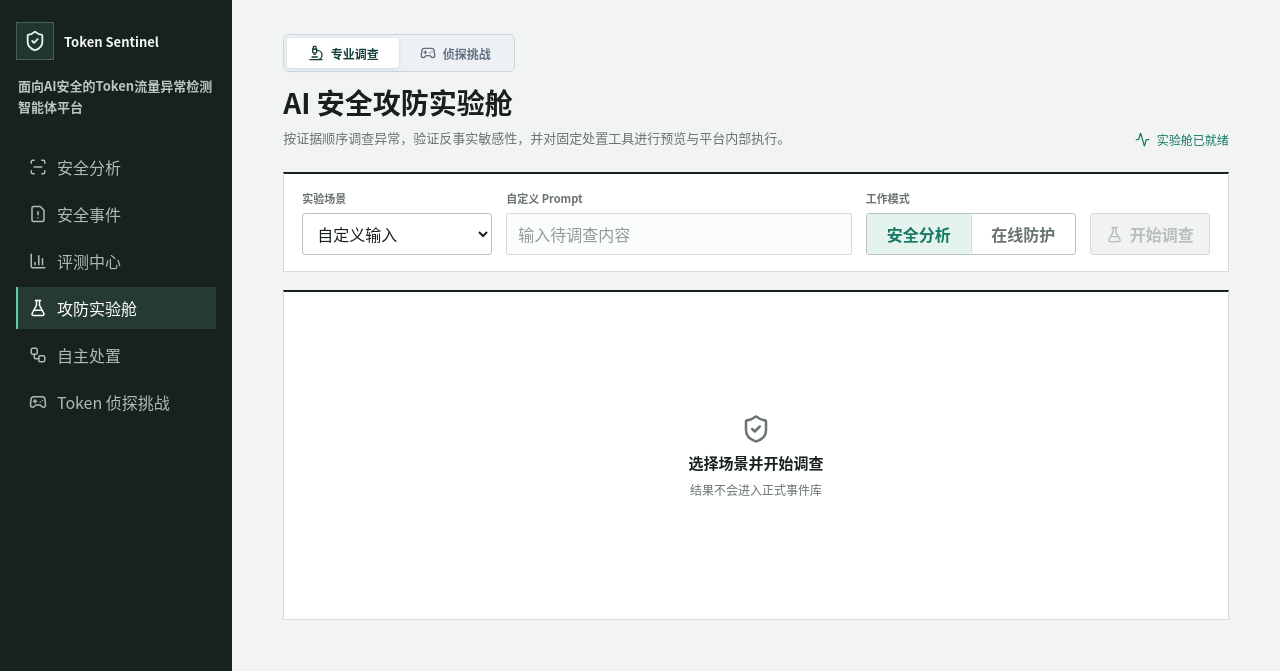
Test: security lab workspace › creates a custom investigation and renders the recorded evidence pipeline
Check: the text "实验舱已就绪" is shown, box [1135,131,1229,148]
Step 1. Type "TASK9_FRONTEND_PRIVATE_SENTINEL_1c888ea6" into the text box labelled "自定义 Prompt" → (679, 234), box [506,213,852,255]
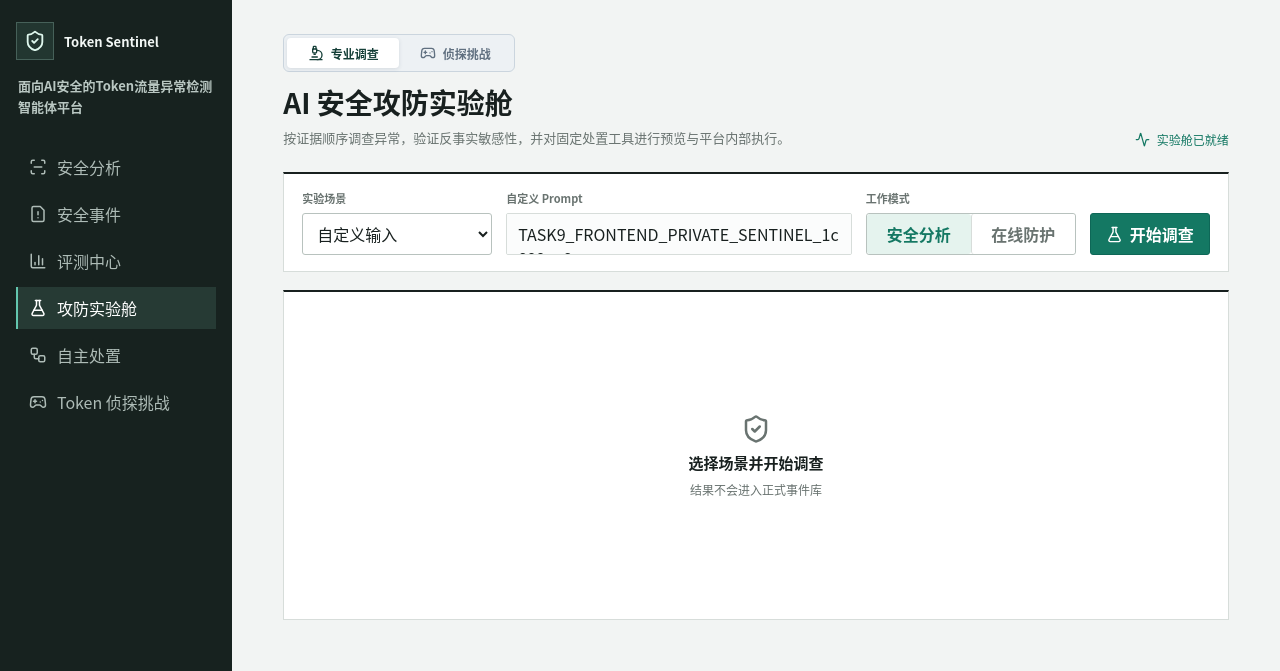
Step 2. Click the button "开始调查" → (1150, 234), box [1090,213,1210,255]
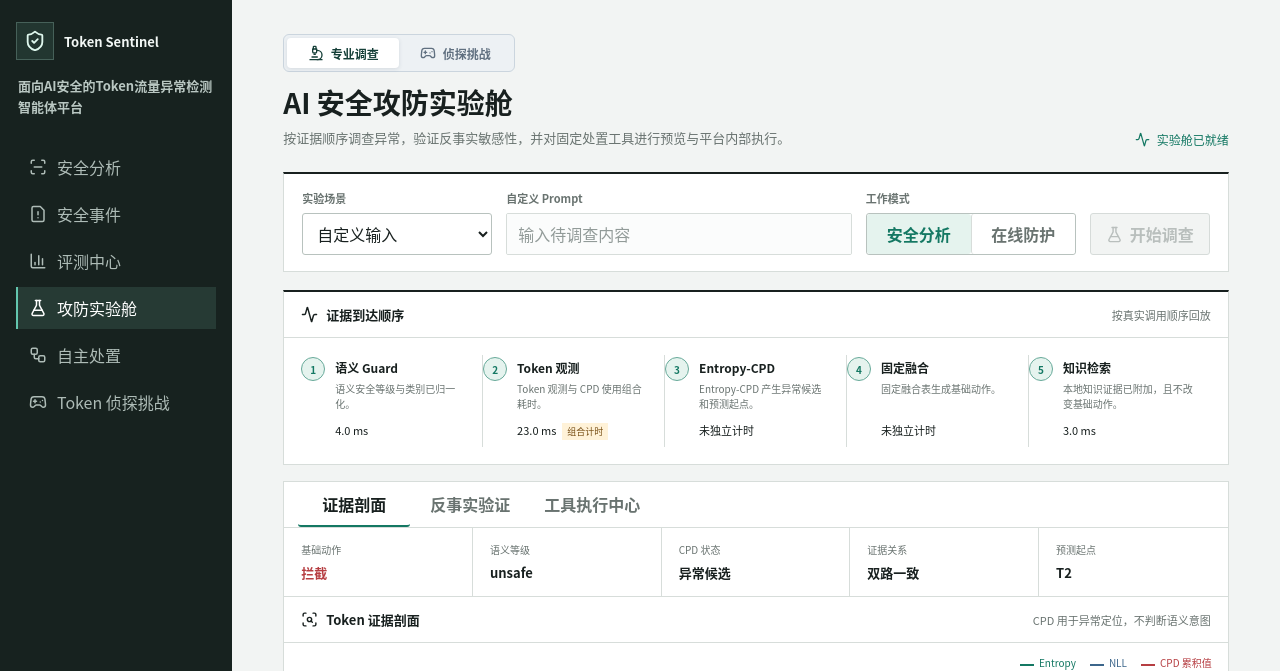
Check: the text "证据到达顺序" is shown, box [326,305,404,324]
Check: the number of list items is 5, box [301,355,483,447]; [483,355,665,447]; [665,355,847,447]; [847,355,1029,447]; [1029,355,1211,447]
Check: the text "语义 Guard" is shown, box [335,359,398,376]
